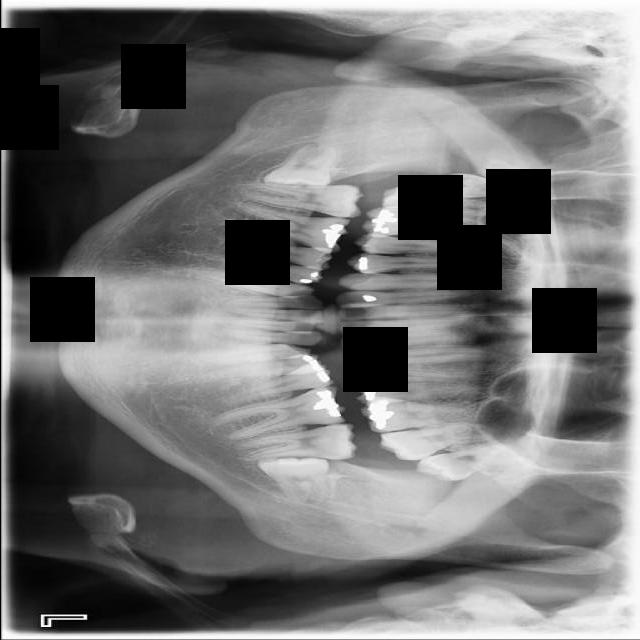3M ESPE Implant: (432, 171, 536, 203)
52: (289, 202, 352, 259), (291, 381, 348, 435), (359, 397, 422, 432), (363, 205, 419, 239), (353, 377, 407, 410), (281, 362, 332, 392), (275, 350, 323, 379), (348, 360, 401, 386), (339, 330, 388, 353), (353, 253, 392, 274), (339, 290, 381, 309), (282, 266, 323, 285)
BioHorizons Implant: (378, 422, 493, 464)
BioLife Implant: (414, 441, 509, 488)
Biomet 3i Implant: (257, 457, 328, 503)
Blue Sky Bio Implant: (235, 423, 359, 475)
Caries: (378, 177, 493, 218)
Implant: (242, 177, 363, 219)
Keystone Dental Implant: (261, 142, 338, 189)
